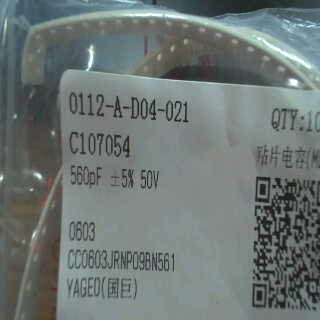560pF: (69, 159, 104, 195)
